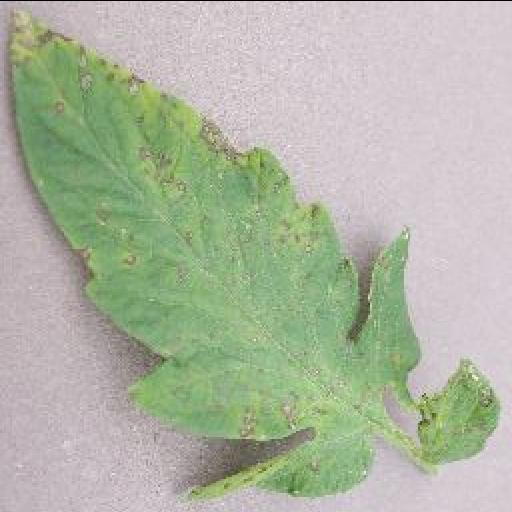disease_tomato: (2, 9, 422, 498)
